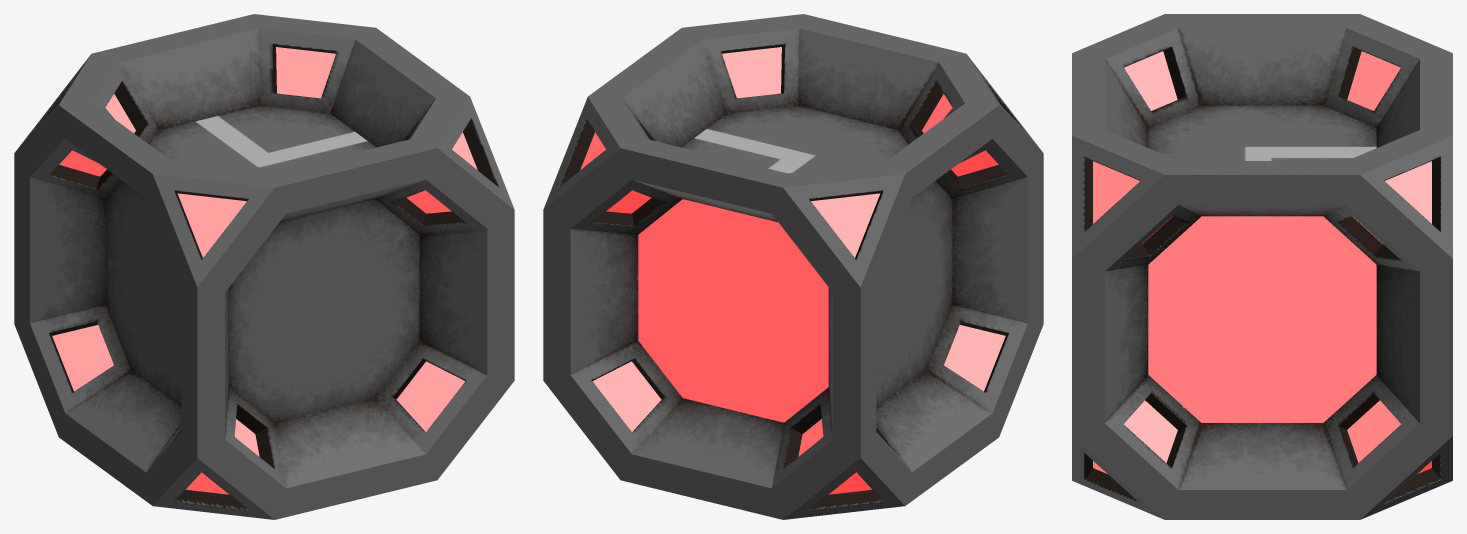
The model's file is prismcube (1).fbx.
The picture shows the model from 3 angles, left to right: view 1: azimuth 30°, elevation 25°; view 2: azimuth 150°, elevation 25°; view 3: azimuth 270°, elevation 25°; orthographic projection. The views are drawn at different scales.
Visible parts, largest first — view 1: Cube.073; view 2: Cube.073; view 3: Cube.073.
Boxes of the visible parts, bbox=[...] form: Cube.073: bbox=[14, 14, 514, 519]; Cube.073: bbox=[543, 14, 1043, 519]; Cube.073: bbox=[1072, 14, 1452, 519].
Size of the model in its own units: 1.69 by 1.69 by 1.69.
1 material, 1 textured.
